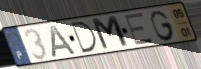3: (24, 25, 50, 63)
A: (49, 24, 79, 60)
D: (69, 20, 98, 55)
E: (123, 11, 156, 46)
G: (149, 9, 177, 43)
M: (89, 14, 132, 53)
